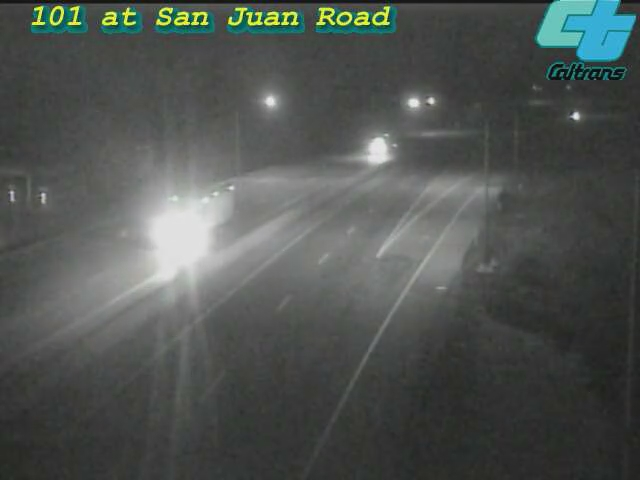vehicle: (150, 186, 230, 266), (355, 122, 405, 172), (551, 91, 601, 141)
